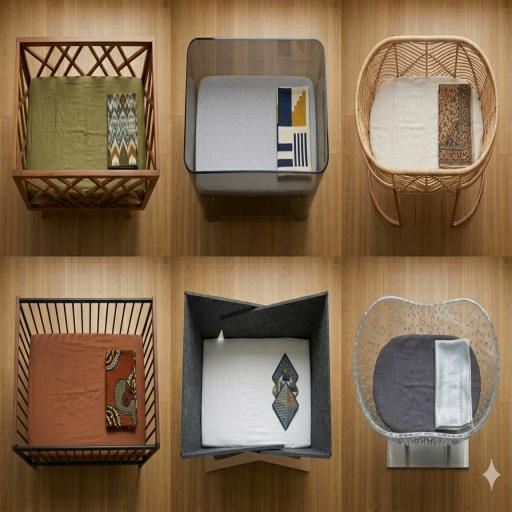crib: (355, 36, 498, 225), (181, 292, 331, 471), (184, 38, 328, 221), (12, 38, 159, 216), (13, 297, 159, 466), (354, 296, 499, 466)
